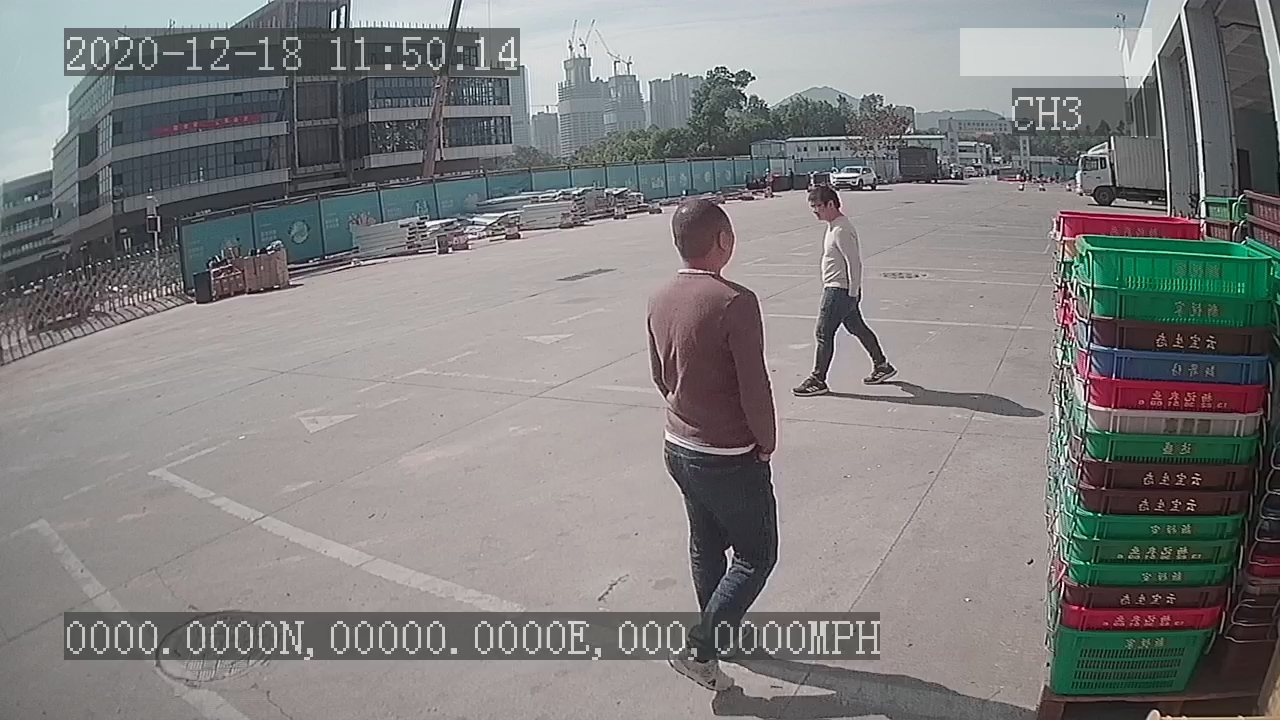person: (788, 185, 902, 401)
